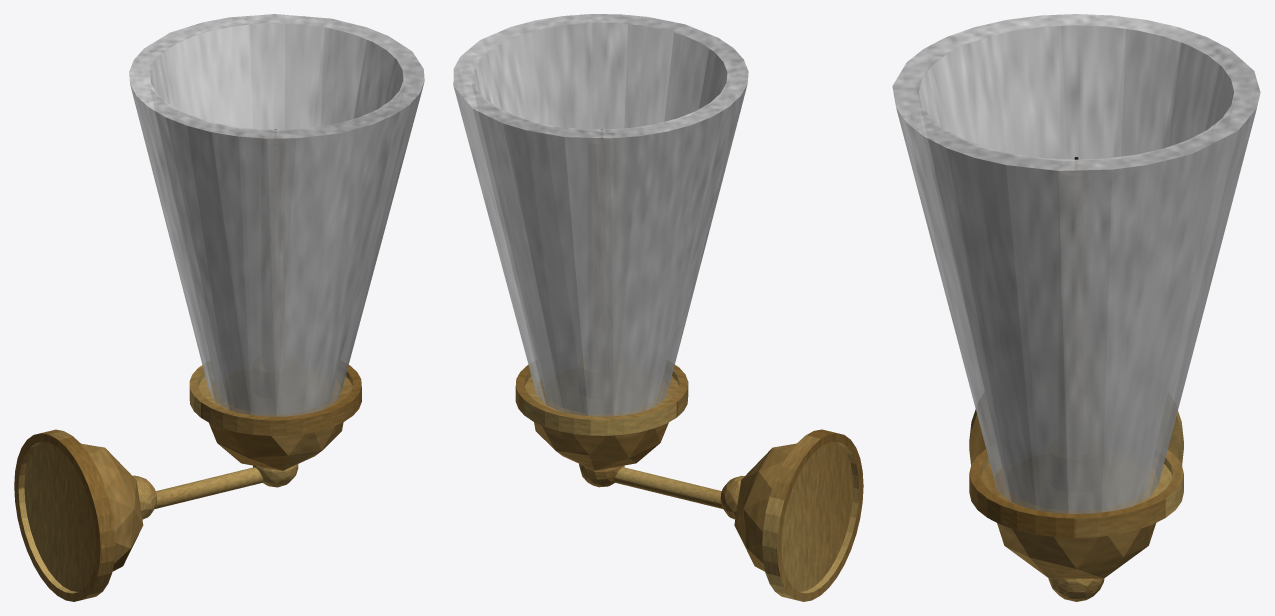
Rendered from lamp.glb.
3 renders of one model, left to right at view 1: azimuth 30°, elevation 25°; view 2: azimuth 150°, elevation 25°; view 3: azimuth 270°, elevation 25°, orthographic. The views are drawn at different scales.
Visible parts, largest first — view 1: Cone, Sphere.001, Base1, Icosphere, Cylinder, Sphere; view 2: Cone, Sphere.001, Base1, Icosphere, Cylinder, Sphere; view 3: Cone, Base1, Icosphere, Sphere.001, Sphere.
Part boxes in pixels (<box>): Cone: <box>129,14,424,416</box>; Sphere.001: <box>14,429,156,601</box>; Base1: <box>189,365,361,435</box>; Icosphere: <box>209,422,343,470</box>; Cylinder: <box>155,467,263,508</box>; Sphere: <box>253,464,298,487</box>; Cone: <box>453,14,748,416</box>; Sphere.001: <box>720,429,863,601</box>; Base1: <box>515,364,688,435</box>; Icosphere: <box>534,422,668,470</box>; Cylinder: <box>614,467,722,508</box>; Sphere: <box>579,464,624,487</box>; Cone: <box>892,14,1260,513</box>; Base1: <box>969,449,1183,537</box>; Icosphere: <box>997,523,1155,578</box>; Sphere.001: <box>969,409,1183,464</box>; Sphere: <box>1048,578,1104,601</box>.
Size of the model in its own units: 0.0697 by 0.0894 by 0.0515.
Materials: 9 (9 with a texture image).
